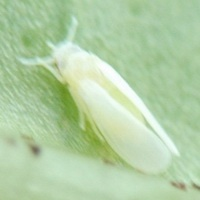insect: (18, 17, 199, 188)
